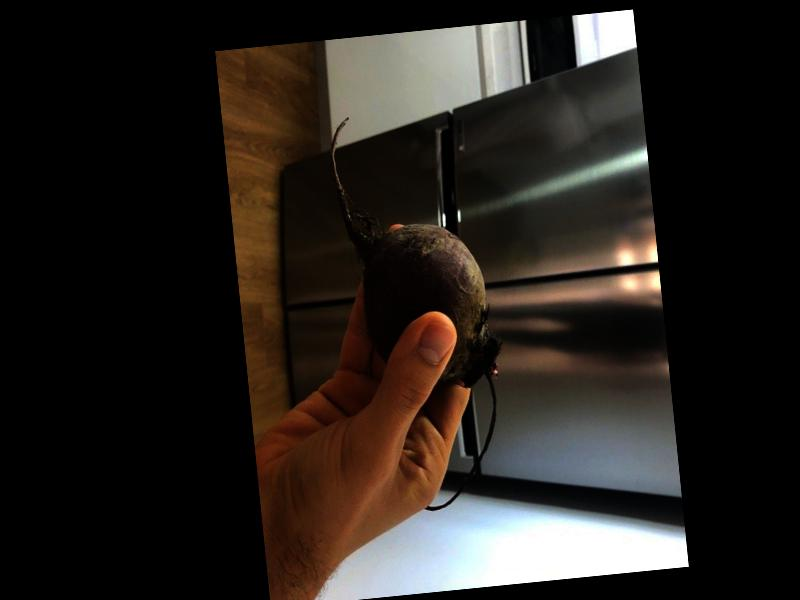Beet: (326, 101, 514, 516)
